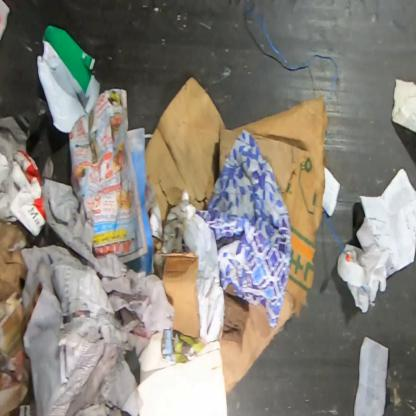cardboard: (142, 75, 329, 395), (154, 250, 200, 339), (0, 221, 30, 308)
rigid_plastic: (36, 24, 101, 134)
